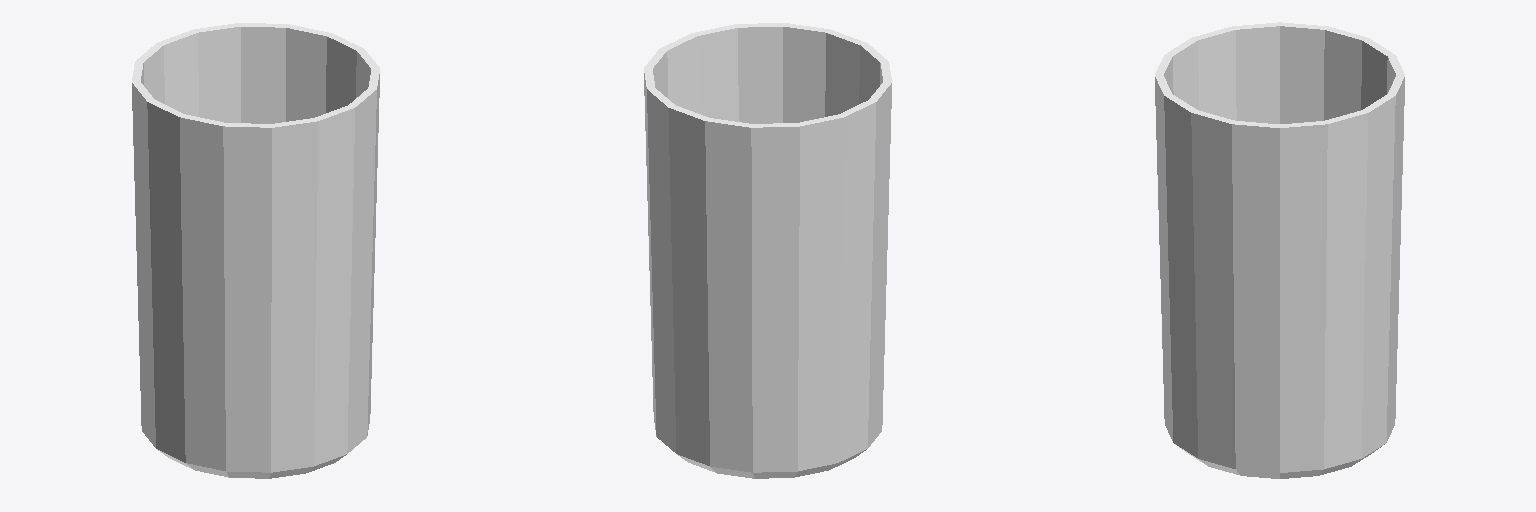
Rendered from waterglass.obj.
The picture shows the model from 3 angles: view 1: azimuth 30°, elevation 25°; view 2: azimuth 150°, elevation 25°; view 3: azimuth 270°, elevation 25°; orthographic projection.
Visible parts, largest first — view 1: waterglass; view 2: waterglass; view 3: waterglass.
Part boxes in pixels (x1,y1,x2,y2): waterglass: (132,23,379,478); waterglass: (644,23,891,478); waterglass: (1155,22,1404,478).
Size of the model in its own units: 0.0733 by 0.1165 by 0.0733.